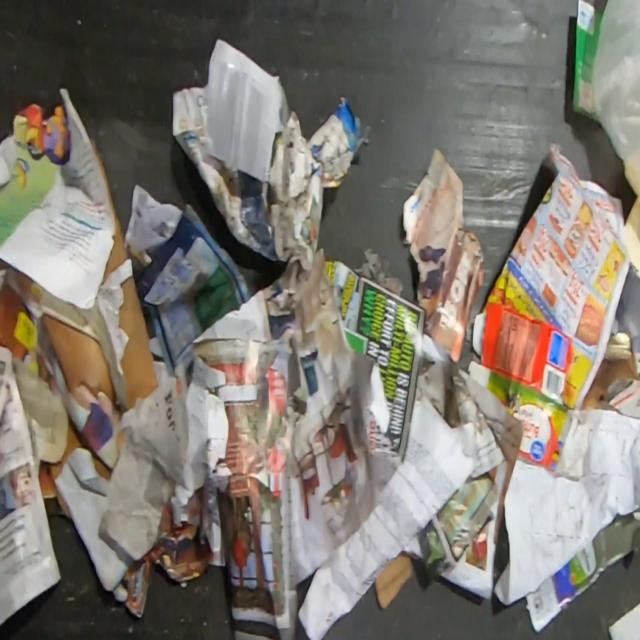cardboard: (38, 128, 161, 416), (374, 551, 414, 607)
soft_plastic: (592, 0, 640, 208)
